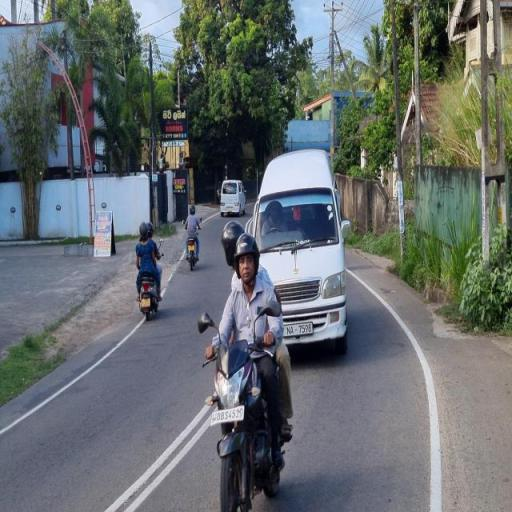double_white_line: (1, 319, 144, 438), (103, 402, 215, 512)
